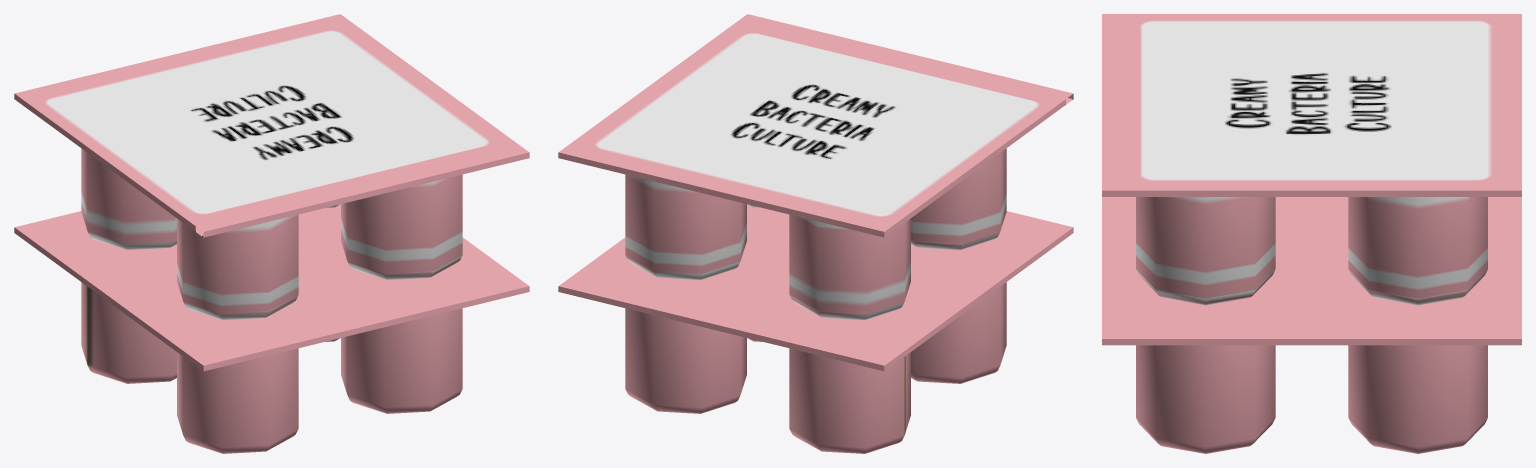
File: Yogurt.FBX
The picture shows the model from 3 angles, left to right: view 1: azimuth 30°, elevation 25°; view 2: azimuth 150°, elevation 25°; view 3: azimuth 270°, elevation 25°; orthographic projection. The views are drawn at different scales.
Visible parts, largest first — view 1: Yogurt; view 2: Yogurt; view 3: Yogurt.
Boxes of the visible parts, x1,y1,x2,y2 form: Yogurt: (14,14,529,453); Yogurt: (558,14,1073,453); Yogurt: (1102,14,1521,453).
Size of the model in its own units: 2534 by 1896 by 2546.
Materials: 1 (1 with a texture image).
